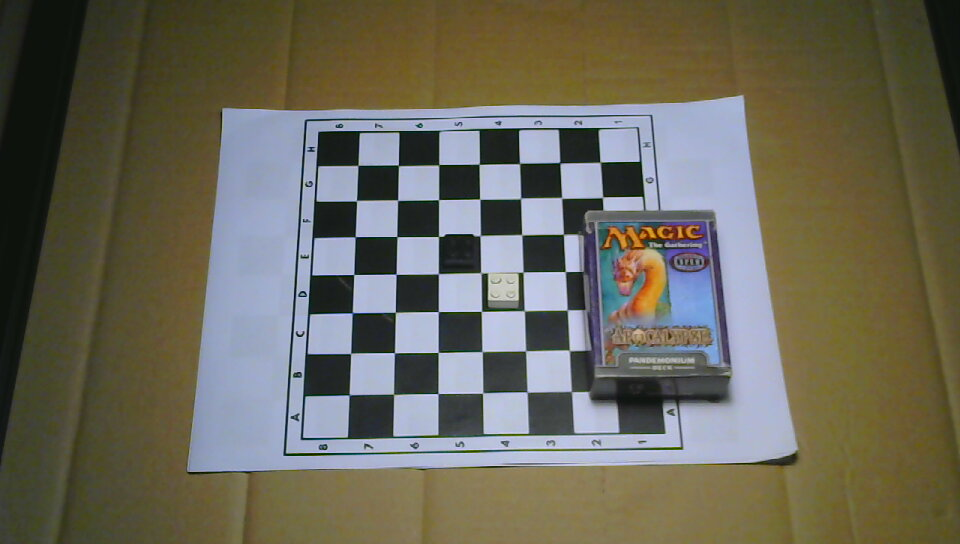bp: (442, 233, 477, 270)
wp: (486, 272, 519, 309)
